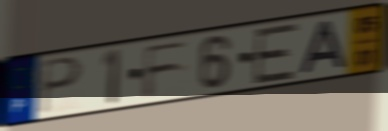1: (101, 47, 122, 106)
6: (199, 33, 234, 91)
A: (298, 18, 349, 77)
E: (251, 20, 301, 86)
F: (141, 38, 191, 101)
P: (38, 55, 84, 117)
